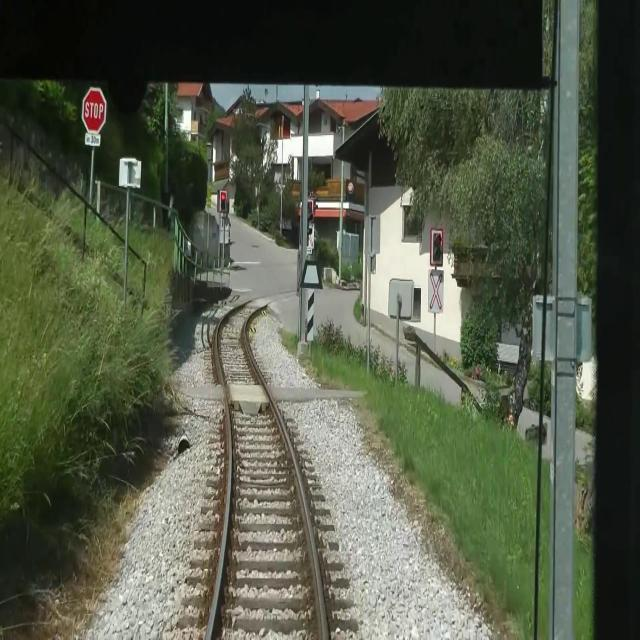rail-track: (210, 298, 323, 639)
